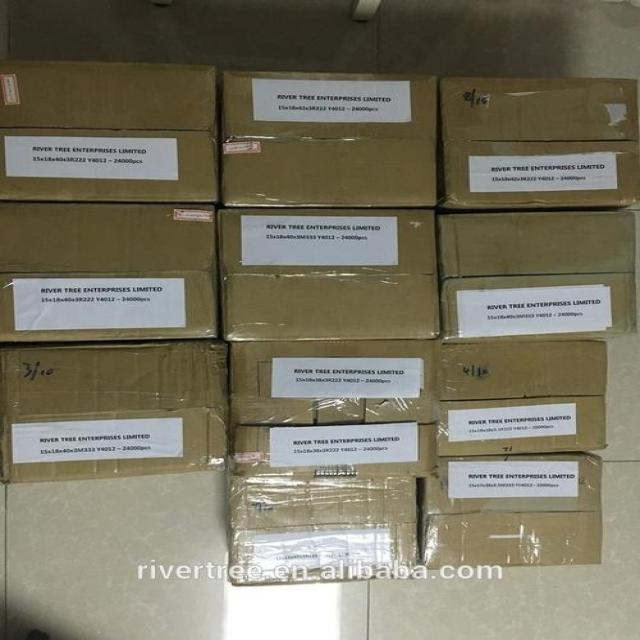box: (0, 341, 228, 484), (0, 200, 224, 341), (0, 62, 221, 202), (214, 70, 437, 207), (218, 205, 442, 341), (227, 339, 441, 478), (437, 78, 639, 215), (438, 210, 639, 343), (419, 449, 602, 568), (227, 476, 424, 584), (438, 337, 607, 454)
